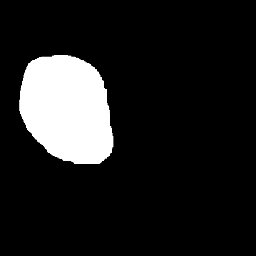mass: (20, 58, 113, 169)
